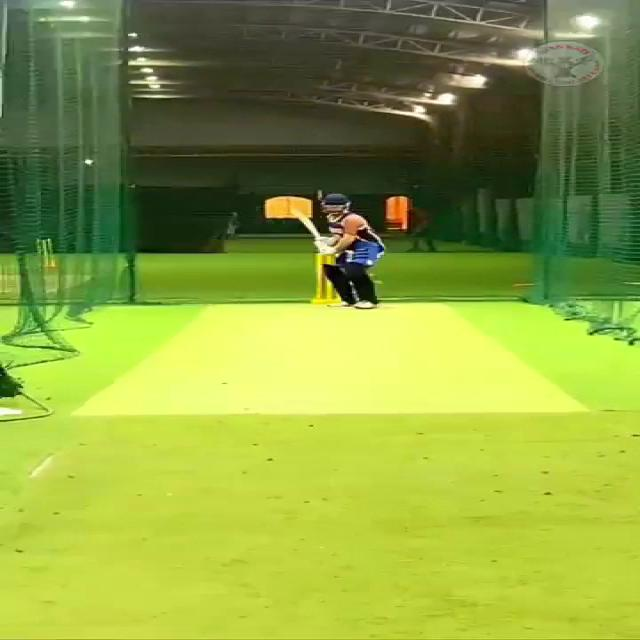batsman: (291, 188, 388, 310)
